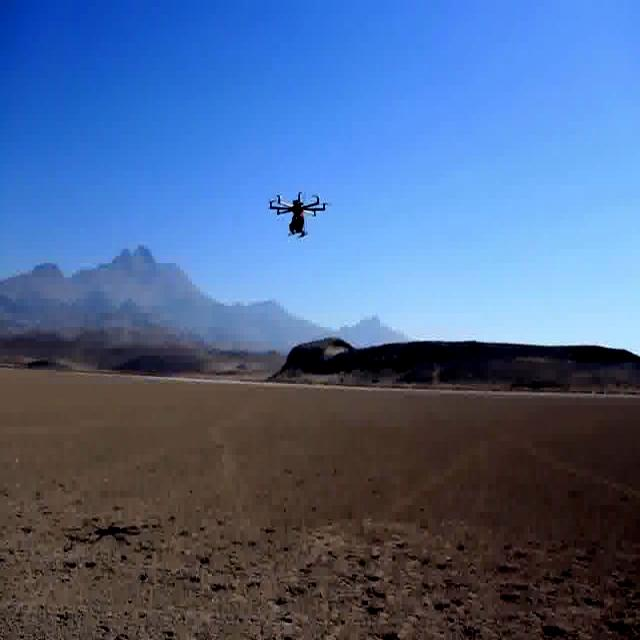drone: (268, 186, 329, 242)
